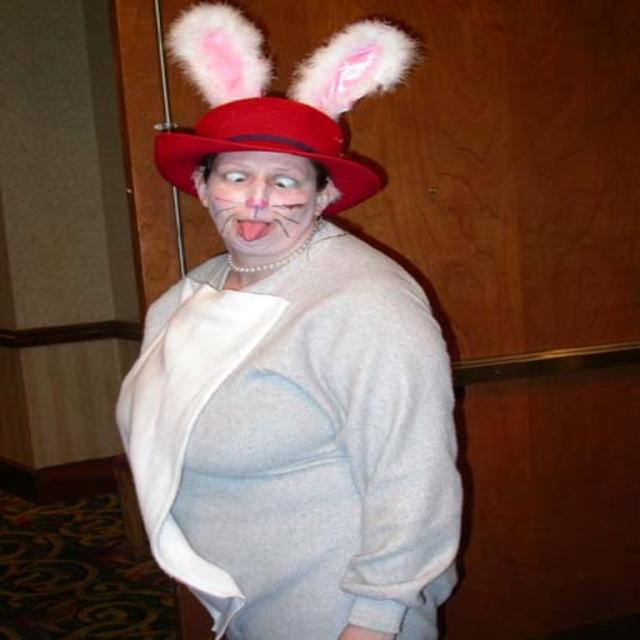Hat: (156, 93, 387, 218)
